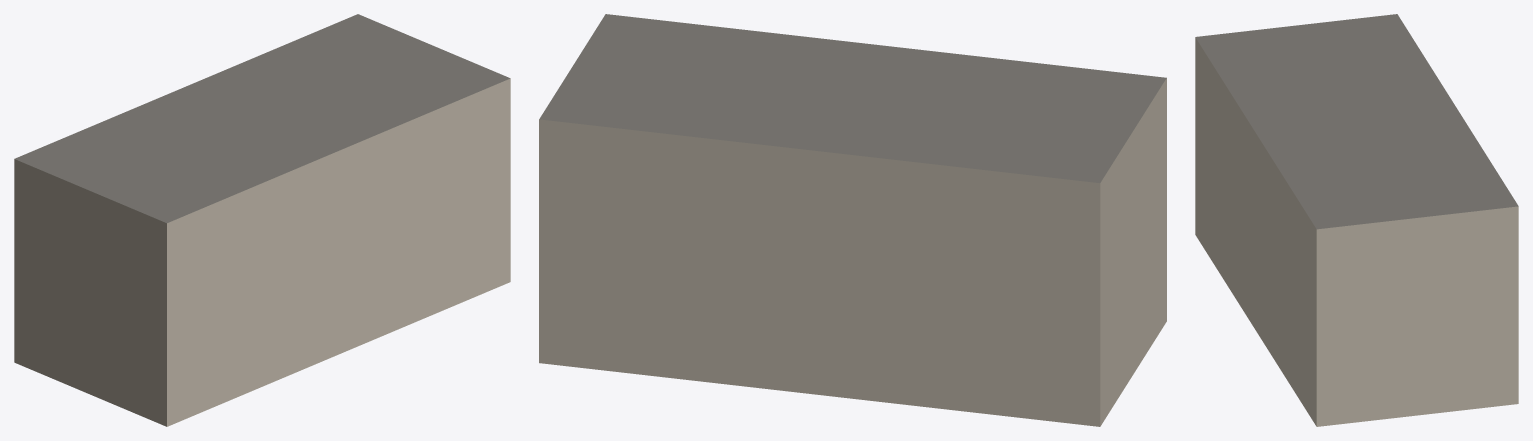
3 renders of one model, left to right at view 1: azimuth 30°, elevation 25°; view 2: azimuth 150°, elevation 25°; view 3: azimuth 270°, elevation 25°, orthographic. The views are drawn at different scales.
Parts seen in each view (by area): view 1: HP-w378107211; view 2: HP-w378107211; view 3: HP-w378107211.
Boxes of the visible parts, x1=… form: HP-w378107211: x1=14, y1=14, x2=510, y2=426; HP-w378107211: x1=539, y1=14, x2=1166, y2=426; HP-w378107211: x1=1195, y1=14, x2=1518, y2=426.
Size of the model in its own units: 35.06 by 15 by 22.26.
